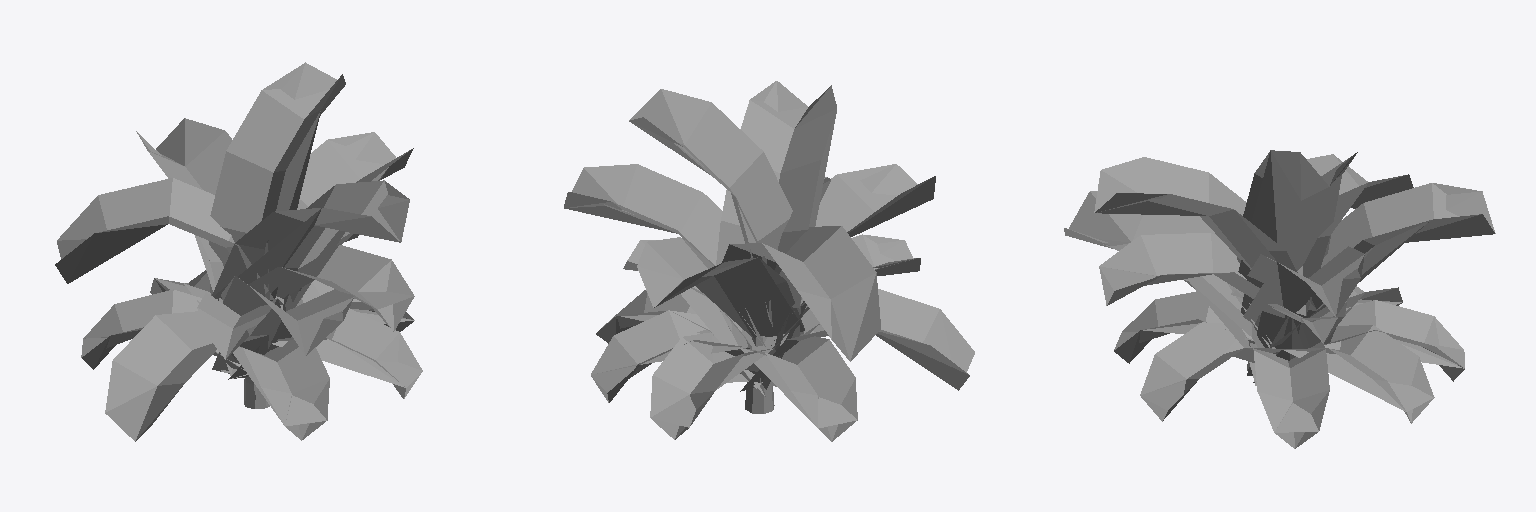
File: BeachPalm.obj
3 views of the same model, side by side, from view 1: azimuth 30°, elevation 25°; view 2: azimuth 150°, elevation 25°; view 3: azimuth 270°, elevation 25° (orthographic).
Parts seen in each view (by area): view 1: BeachPalm256, BeachPalm128; view 2: BeachPalm256, BeachPalm128; view 3: BeachPalm256, BeachPalm128.
Part boxes in pixels (bbox=[...]): BeachPalm256: bbox=[57, 63, 422, 441]; BeachPalm128: bbox=[55, 62, 422, 440]; BeachPalm256: bbox=[564, 81, 951, 441]; BeachPalm128: bbox=[564, 81, 974, 428]; BeachPalm256: bbox=[1064, 150, 1481, 448]; BeachPalm128: bbox=[1069, 150, 1495, 432].
Size of the model in its own units: 5.61 by 4.59 by 5.94.